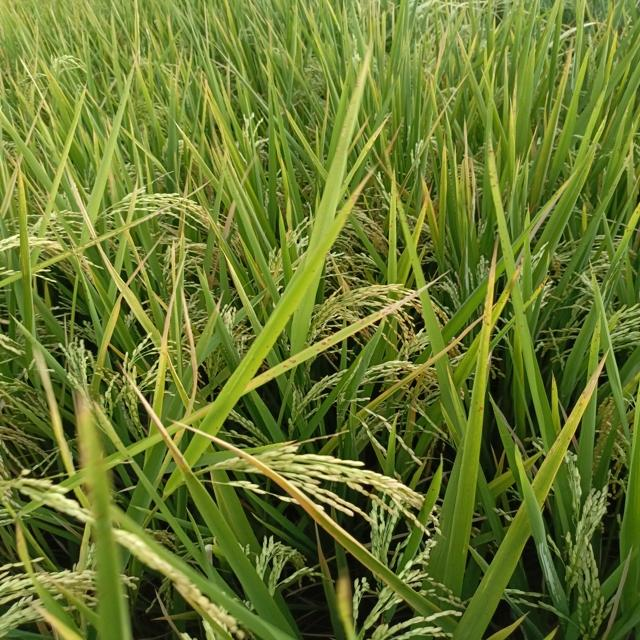Brown spot: (162, 414, 334, 528), (114, 356, 200, 483), (63, 163, 134, 304), (567, 343, 617, 422), (547, 34, 577, 120), (13, 155, 31, 221), (419, 170, 437, 213)
